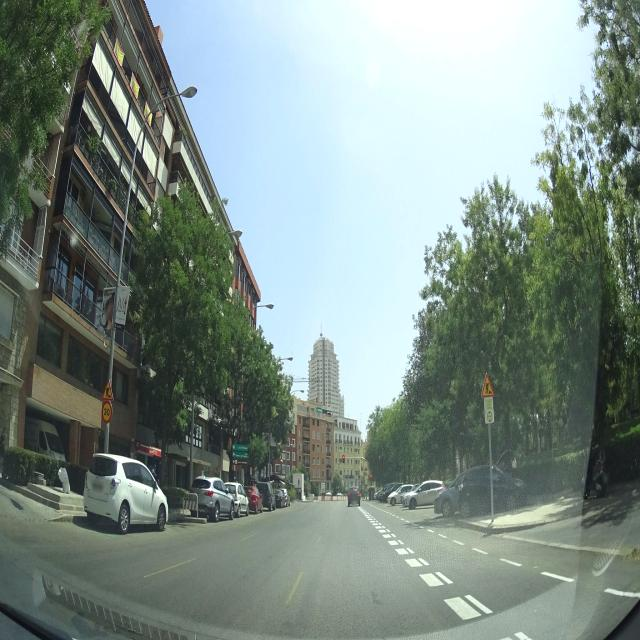car: (83, 451, 169, 534), (433, 464, 527, 516), (189, 475, 235, 522), (404, 479, 445, 510), (224, 481, 250, 518), (388, 482, 416, 506), (256, 481, 276, 511), (244, 484, 264, 514), (272, 487, 286, 507), (348, 487, 362, 507), (281, 487, 291, 506)
